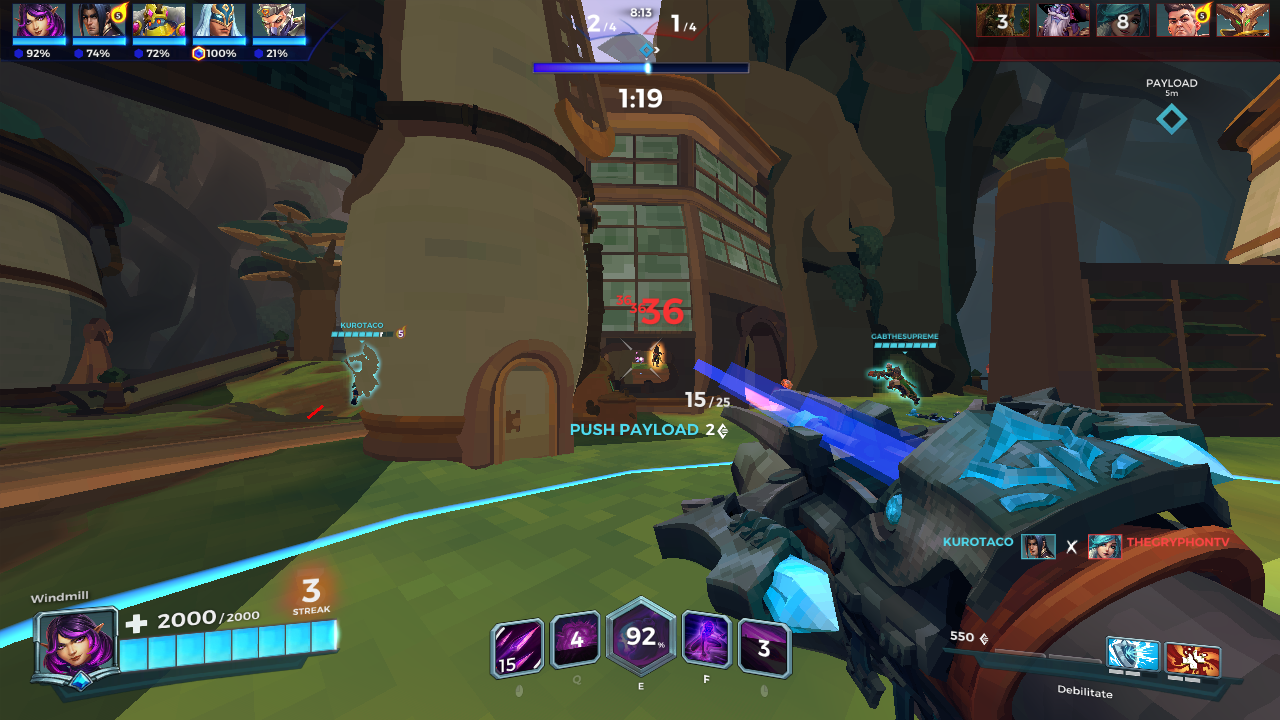model: (649, 339, 663, 365)
